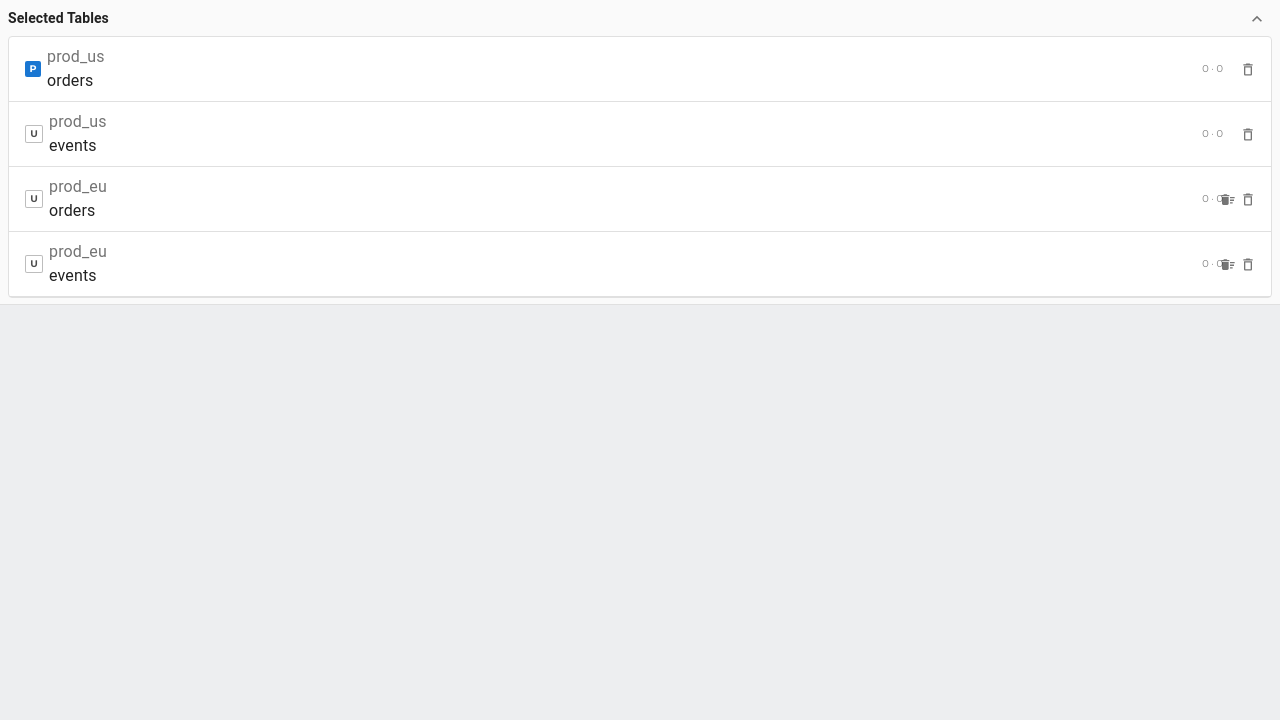
Test case: SelectedTablesList — removing the primary table › keeps it on cancel
What coordinates should you click on to do the following:
click the button named "Remove prod_us.orders"
I would click on:
 (1248, 70)
Its box is [1238,60,1258,80].
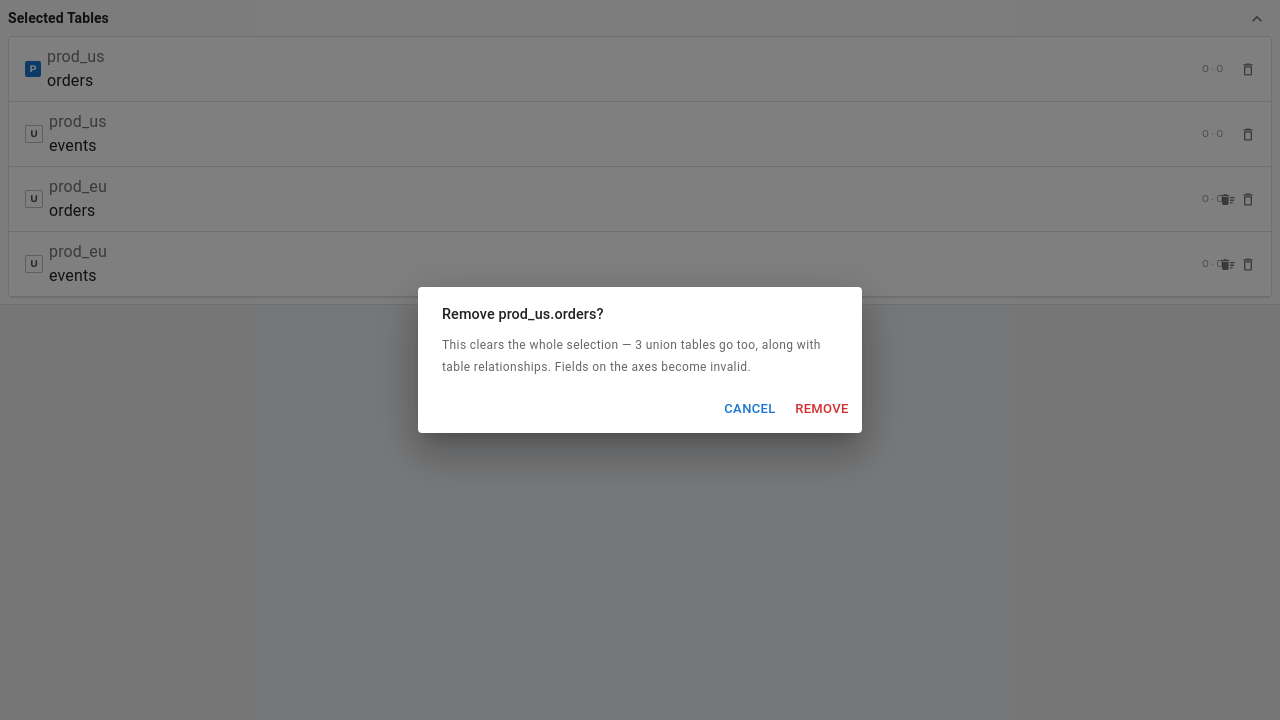
What coordinates should you click on to do the following:
click the button "Cancel"
I would click on:
 (750, 409)
Its box is [718,394,782,425].
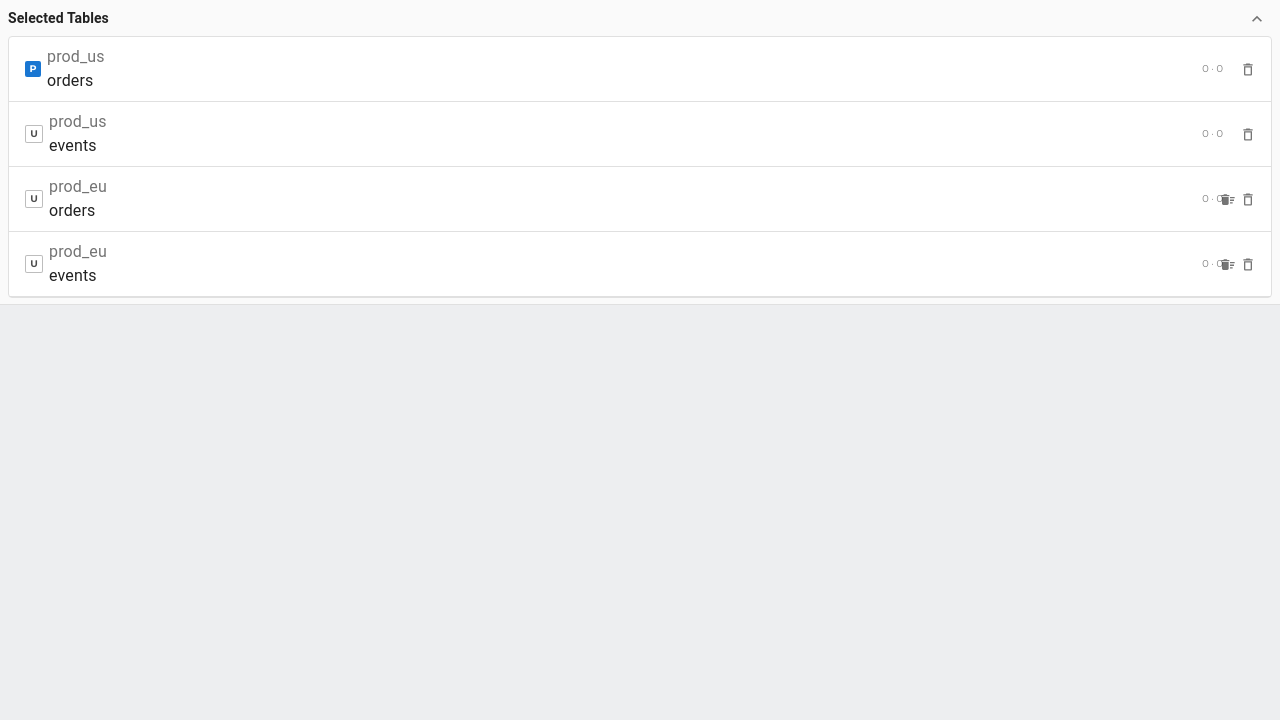
Check: the dialog is gone
